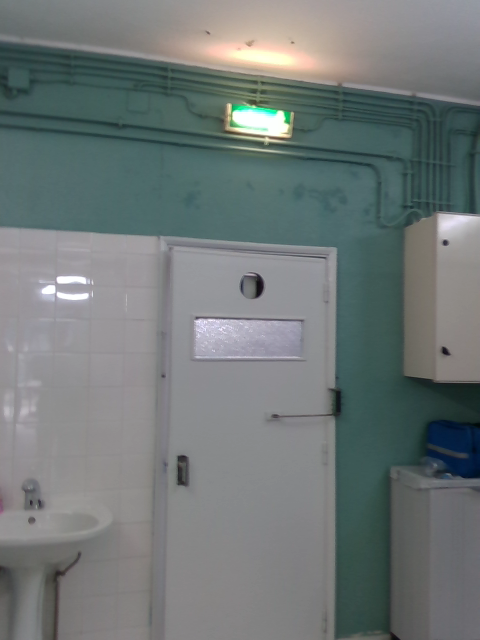closed: (157, 239, 340, 635)
